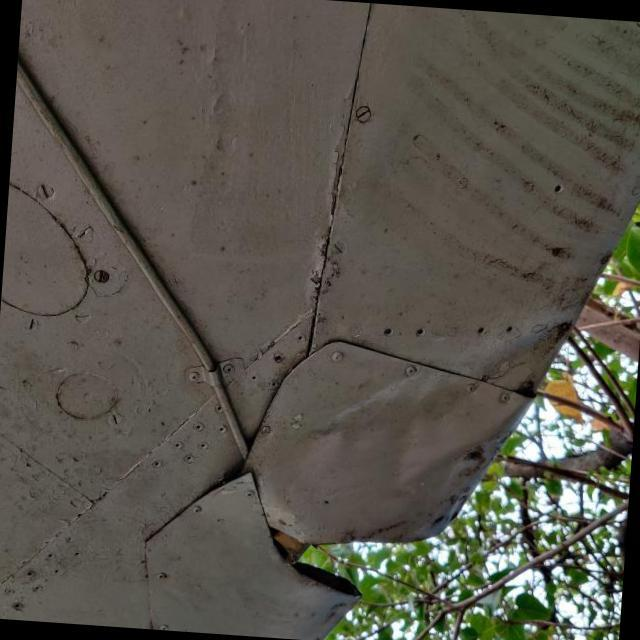Dent: (270, 280, 588, 542)
